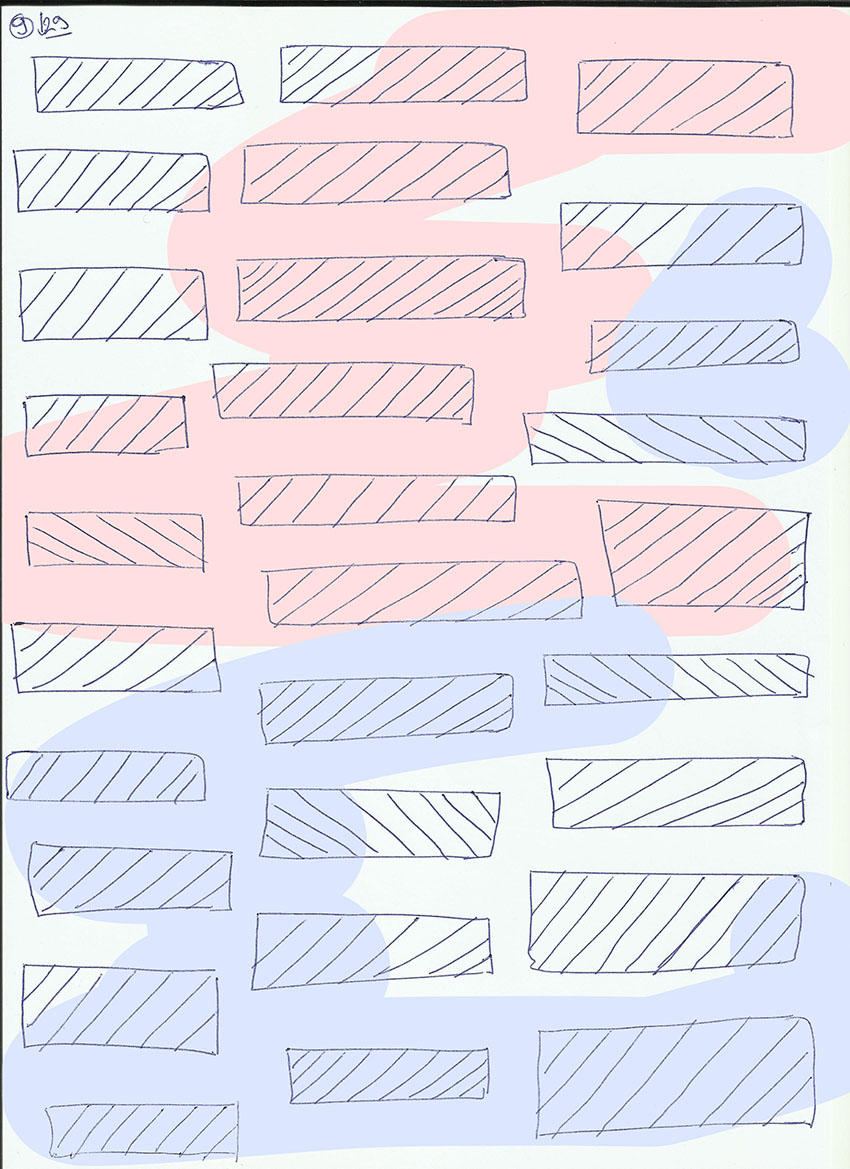frame: (532, 1013, 820, 1140), (523, 865, 807, 979), (592, 493, 813, 616), (258, 556, 585, 628), (231, 250, 530, 325), (541, 754, 811, 835), (248, 909, 495, 994), (19, 959, 224, 1059), (254, 672, 517, 749), (574, 55, 798, 143), (255, 783, 504, 862), (237, 137, 514, 208), (557, 196, 807, 274), (207, 359, 477, 427), (7, 617, 225, 698), (276, 41, 531, 110), (24, 836, 235, 918), (517, 408, 812, 466), (232, 472, 518, 531), (539, 649, 814, 709), (13, 263, 210, 346), (7, 144, 217, 216), (27, 50, 246, 116), (41, 1100, 243, 1168), (21, 506, 210, 578), (283, 1042, 494, 1106), (583, 317, 802, 377), (4, 746, 211, 806), (18, 390, 189, 459)
